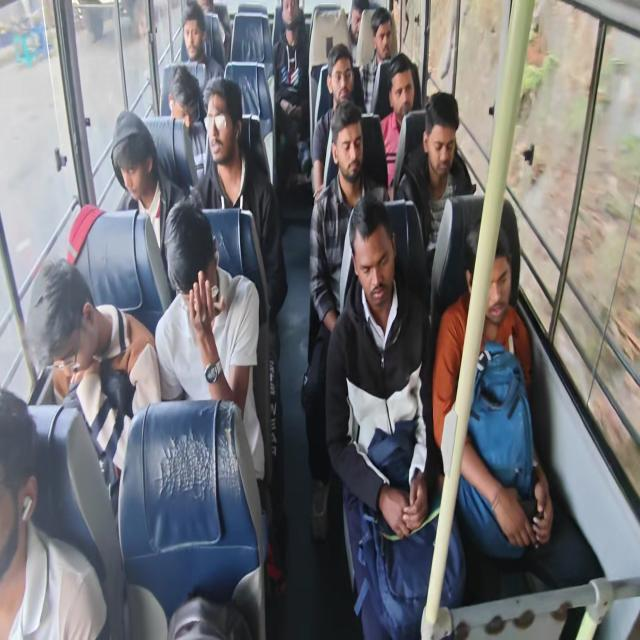person: (462, 228, 522, 322), (30, 292, 92, 379), (170, 222, 219, 306), (352, 213, 395, 305), (121, 126, 168, 191), (200, 82, 234, 166), (330, 124, 364, 182), (388, 70, 425, 114), (427, 114, 453, 176), (168, 78, 197, 128), (273, 0, 305, 33), (330, 61, 350, 102), (184, 14, 200, 61), (376, 22, 393, 58), (350, 3, 367, 36)
